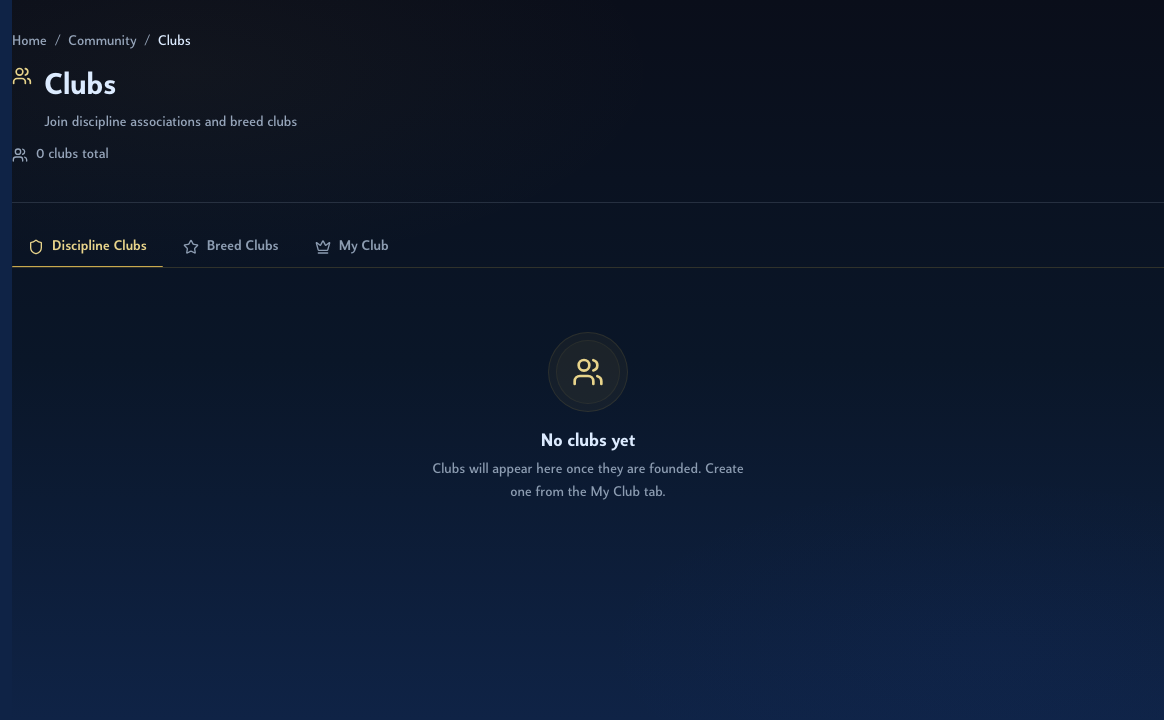
Test: MyClubTab fetch states (Equoria-lhkcl) › a successful empty memberships fetch is the honest "Club Governance" empty
This screenshot has width=1164, height=720.
Step 1. Click the tab with test id "tab-my-club" → (352, 247), box x1=299 y1=227 x2=405 y2=267
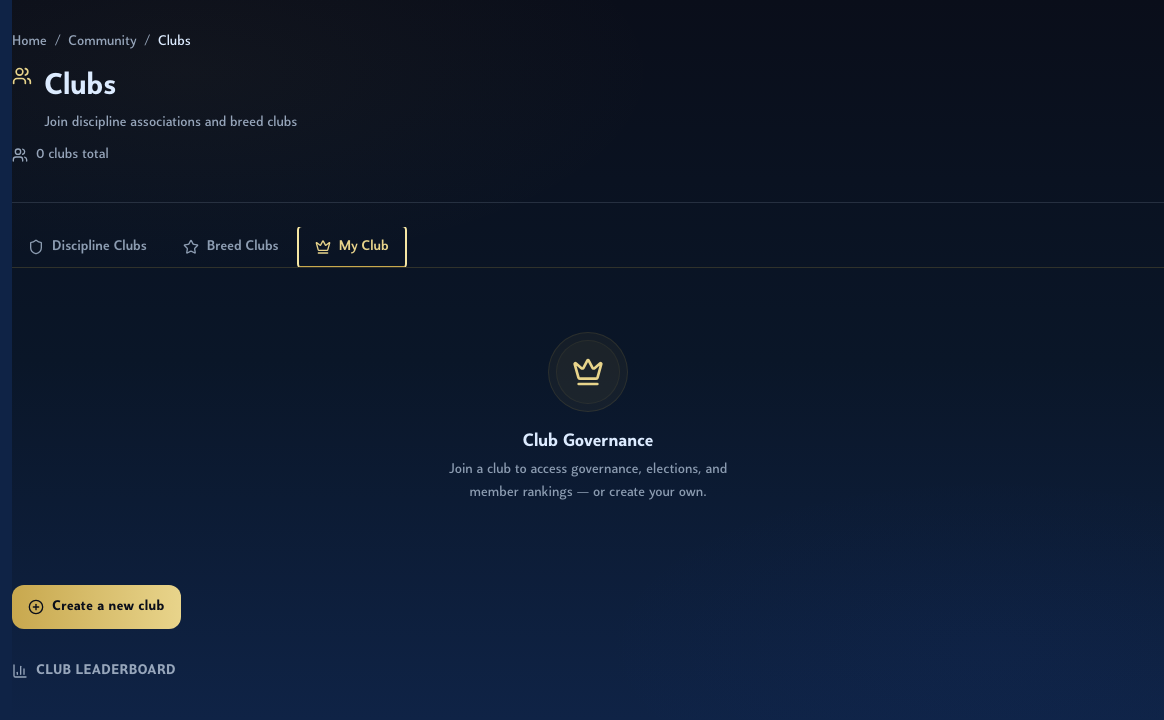
expect the heading "Club Governance" is shown: met, box x1=522 y1=428 x2=653 y2=455
